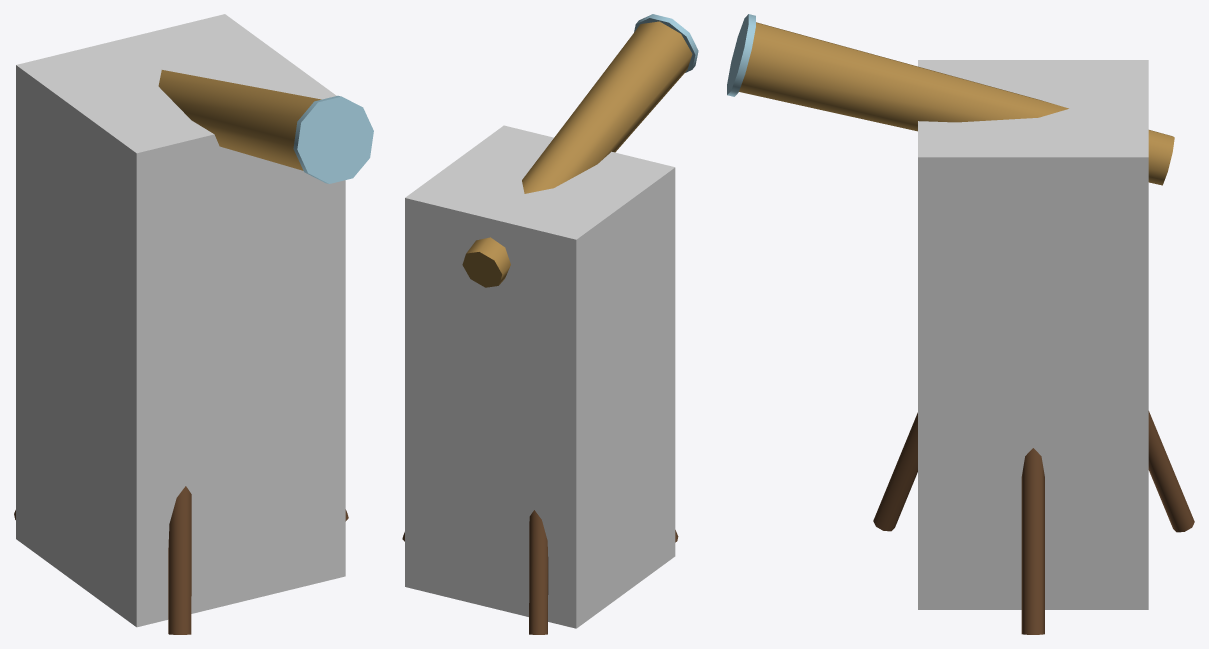
File: catalejo.glb
The picture shows the model from 3 angles, left to right: view 1: azimuth 30°, elevation 25°; view 2: azimuth 150°, elevation 25°; view 3: azimuth 270°, elevation 25°; orthographic projection. The views are drawn at different scales.
Parts seen in each view (by area): view 1: COL_0, catalejo_Malla; view 2: COL_0, catalejo_Malla; view 3: COL_0, catalejo_Malla.
Boxes of the visible parts, bbox=[...] form: COL_0: bbox=[16, 14, 345, 627]; catalejo_Malla: bbox=[14, 70, 373, 634]; COL_0: bbox=[405, 125, 675, 628]; catalejo_Malla: bbox=[402, 14, 698, 634]; COL_0: bbox=[918, 60, 1148, 609]; catalejo_Malla: bbox=[727, 14, 1194, 634].
Size of the model in its own units: 0.7779 by 1.57 by 1.22.
